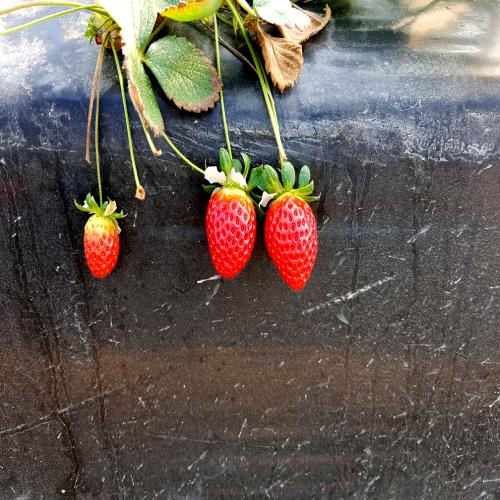partially-ripe: (81, 210, 123, 284)
ripe: (261, 185, 320, 300), (205, 181, 260, 288)
